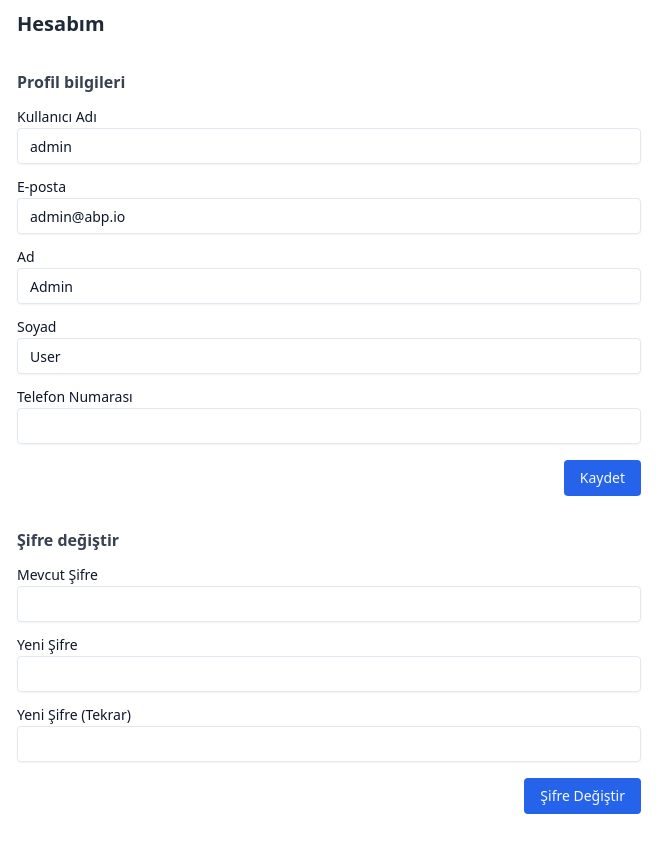
Test: ProfilePage — change password validation › shows an error when new passwords do not match
The image size is (659, 851).
Type "OldPass123" into the password field labelled "Mevcut Şifre". click: (329, 604)
box: [17,586,641,622]
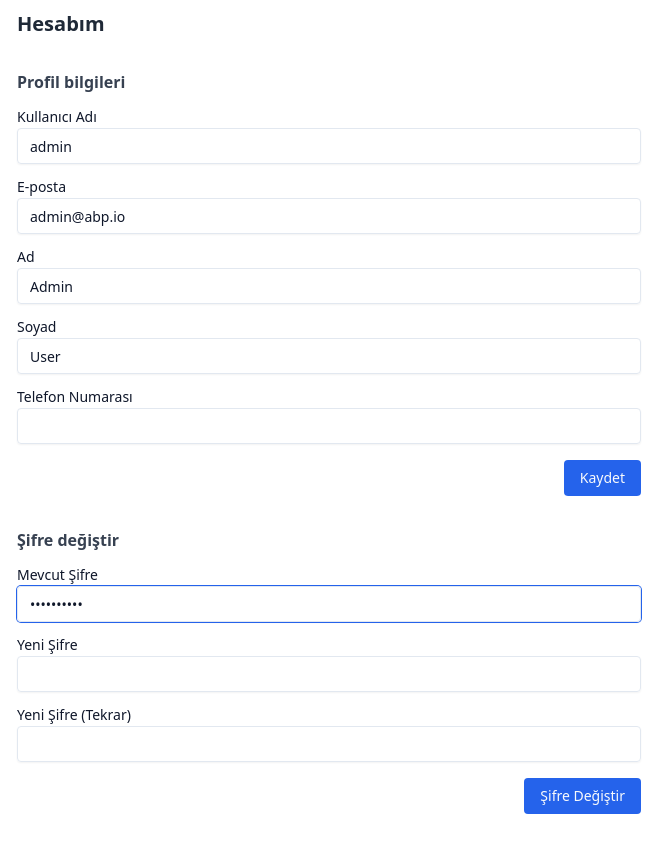
Type "NewPass123" into the password field labelled "Yeni Şifre". click: (329, 674)
box: [17,656,641,692]
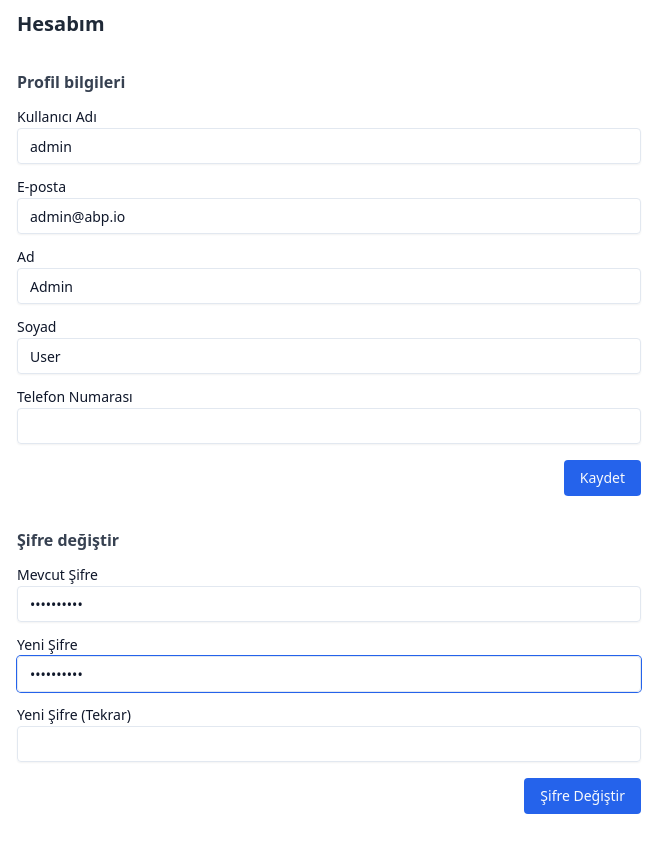
Type "WrongPass999" into the password field labelled "Yeni Şifre (Tekrar)". click: (329, 744)
box: [17,726,641,762]
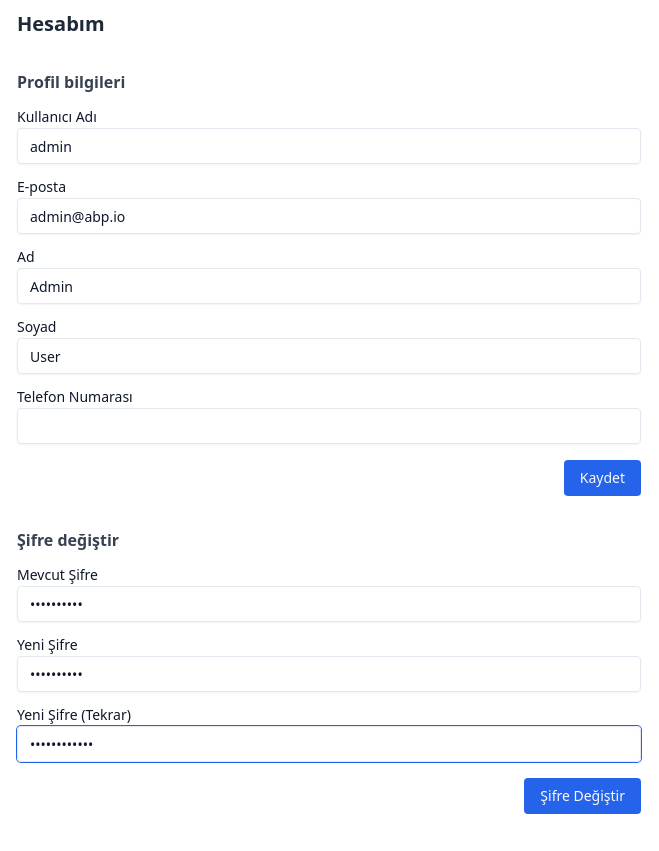
// Submit the change-password form
Click the button "Şifre Değiştir". click: (583, 796)
box: [524,778,641,814]
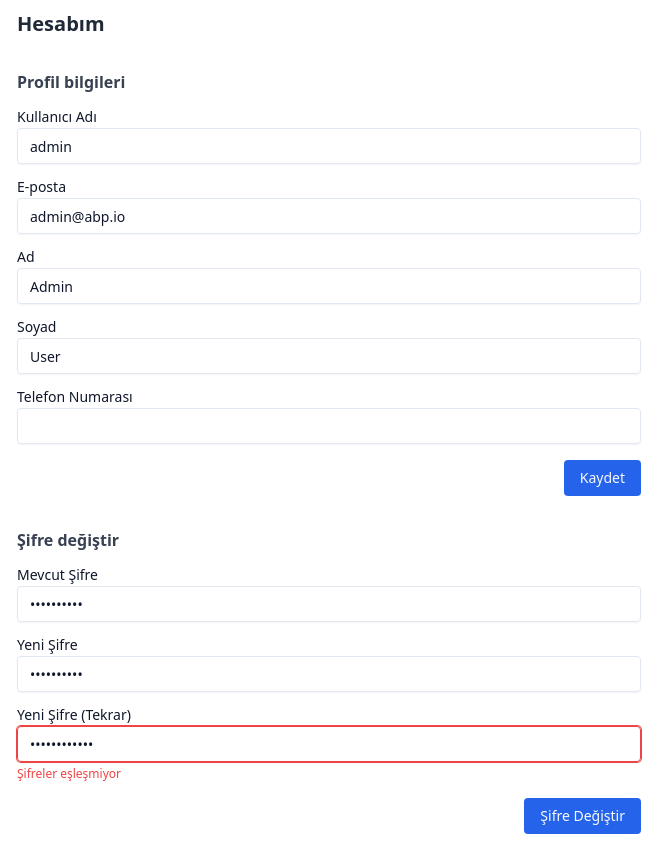
Now the text "Şifreler eşleşmiyor" is shown, box [17,765,121,782]
